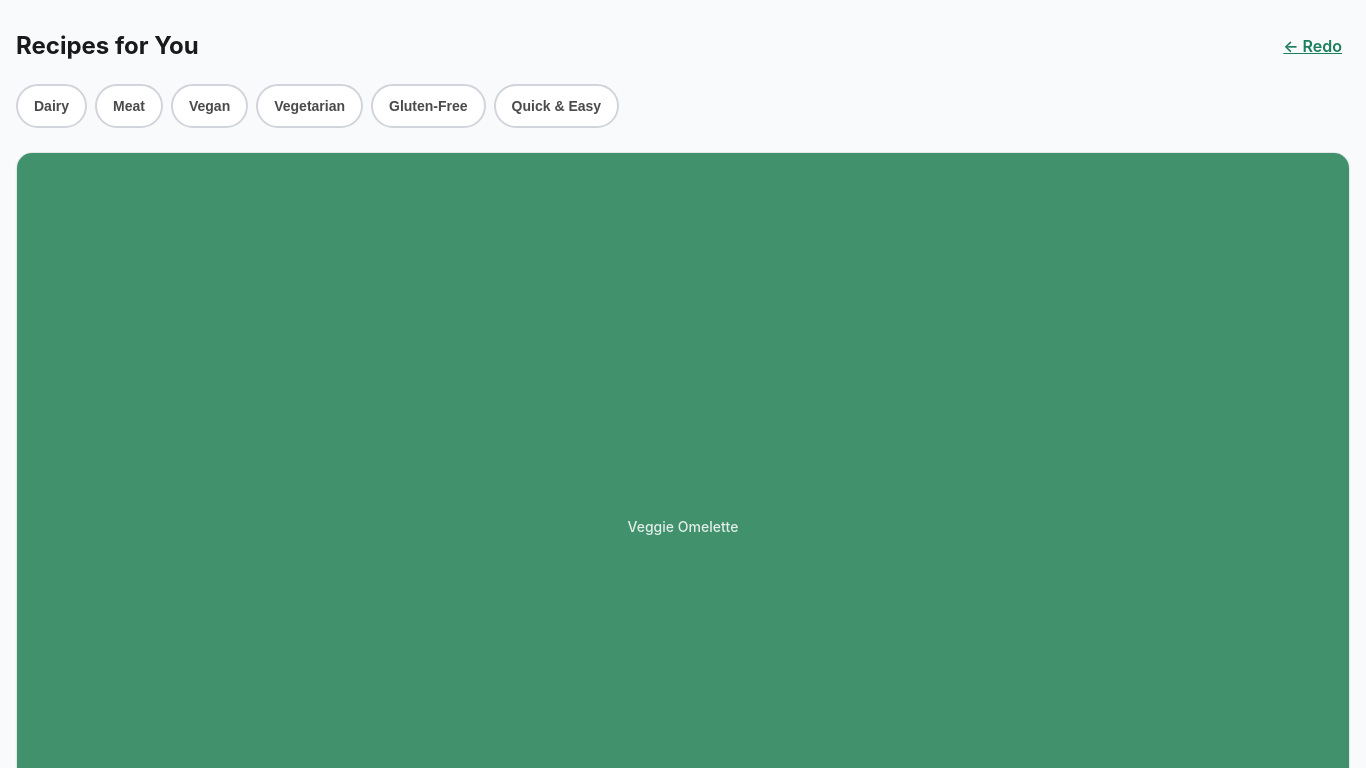
RecipeResults — zero-recipe states (AC-13) › does NOT show "couldn't find recipes" message when recipes exist but are all filtered out
The width and height of the screenshot is (1366, 768).
Click the button "Meat" at (129, 106), box [95,84,163,128]
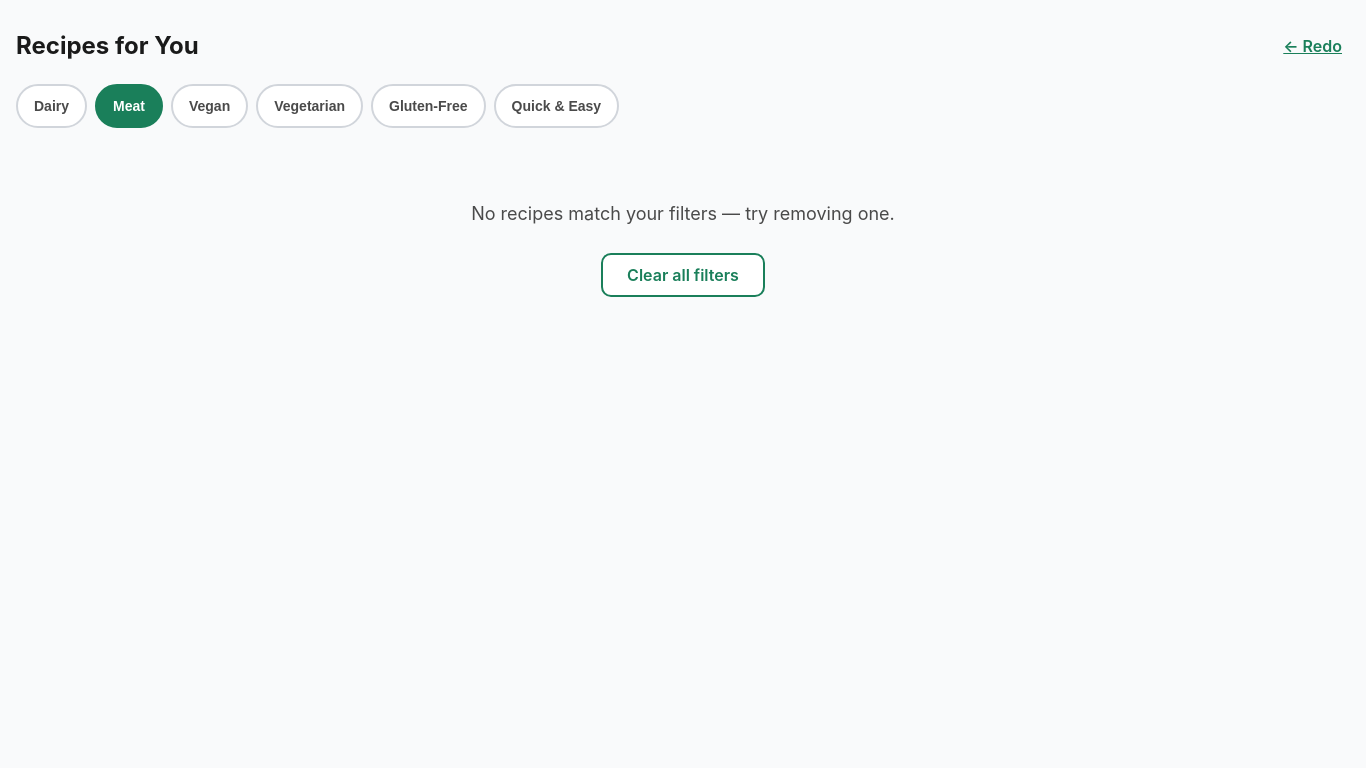
Check: the text "No recipes match your filters — try removing one." is shown, box [471,203,895,224]
